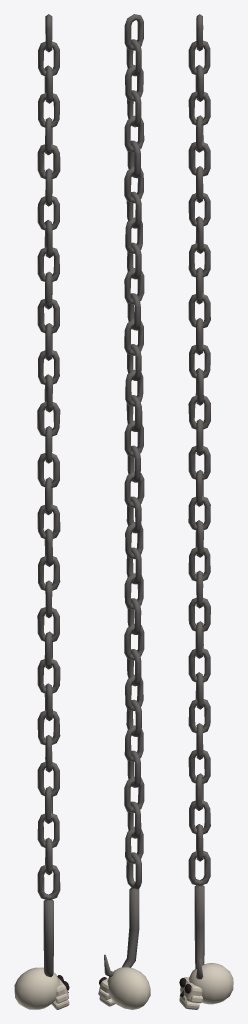
File: hanging_chain.glb
The picture shows the model from 3 angles, left to right: view 1: azimuth 90°, elevation 25°; view 2: azimuth 210°, elevation 25°; view 3: azimuth 270°, elevation 25°; orthographic projection.
Parts seen in each view (by area): view 1: chain; view 2: chain; view 3: chain.
Part boxes in pixels (<box>): chain: <box>14,14,69,1009</box>; chain: <box>98,14,150,1009</box>; chain: <box>179,14,233,1009</box>.
Bounding box in the file's own units: 0.2839 × 6.42 × 0.3202.
